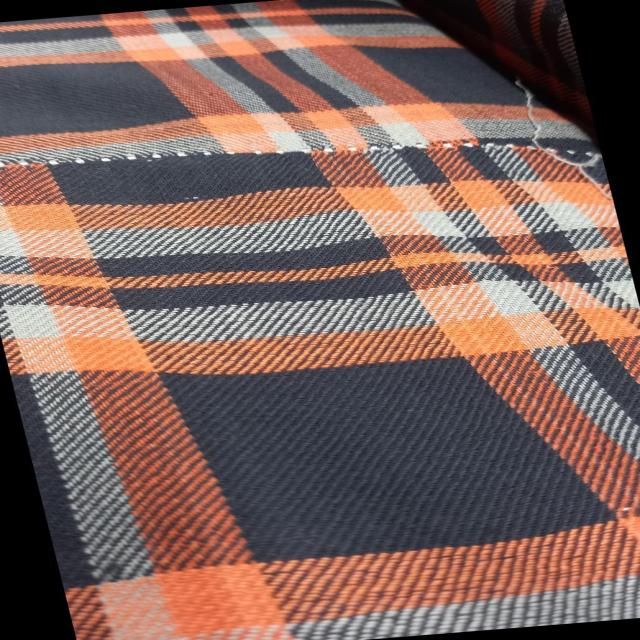gray stitch: (0, 107, 602, 206)
